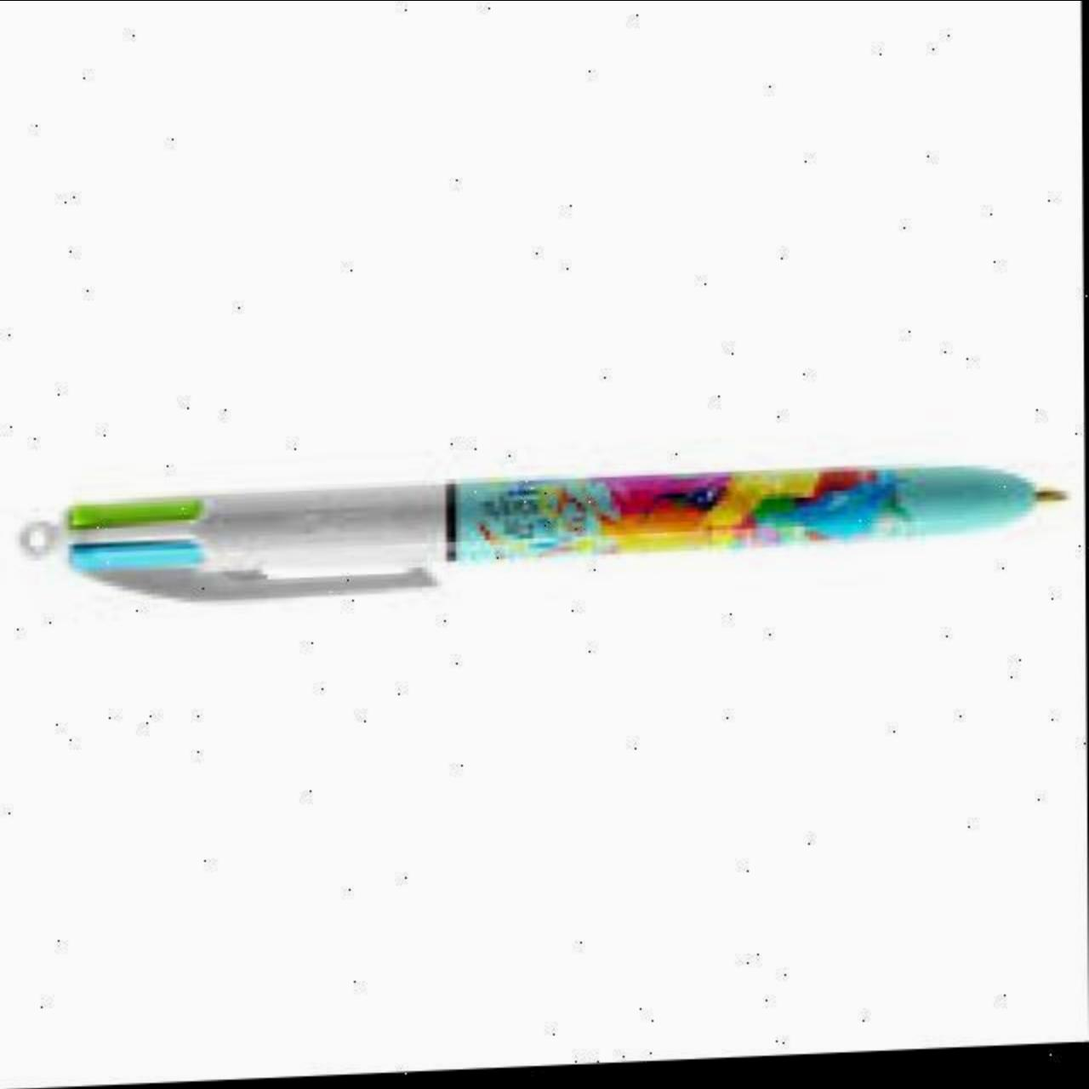pen: (12, 456, 1072, 619)
